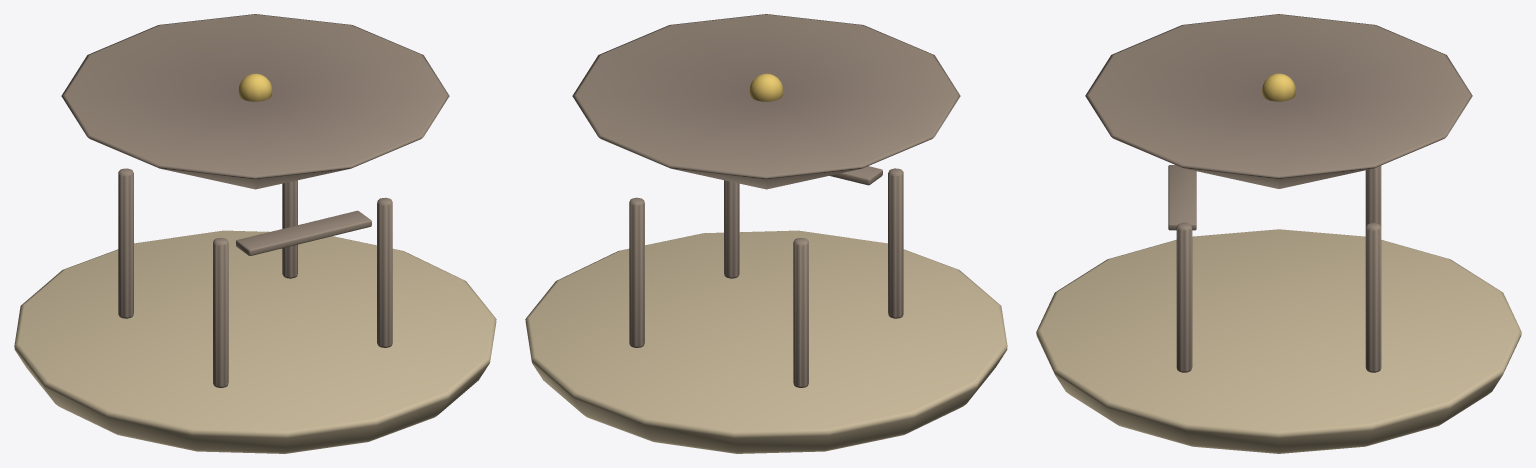
The picture shows the model from 3 angles, left to right: view 1: azimuth 30°, elevation 25°; view 2: azimuth 150°, elevation 25°; view 3: azimuth 270°, elevation 25°; orthographic projection.
Parts seen in each view (by area): view 1: landmark_bdee95d4; view 2: landmark_bdee95d4; view 3: landmark_bdee95d4.
Part boxes in pixels (x1,y1,x2,y2): landmark_bdee95d4: (14, 14, 496, 453); landmark_bdee95d4: (525, 14, 1007, 453); landmark_bdee95d4: (1036, 14, 1521, 453).
Bounding box in the file's own units: 5.13 × 3.33 × 5.13.
